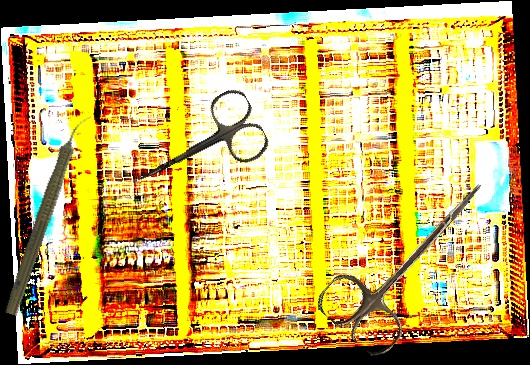Handpiece: (1, 109, 94, 319)
Iris Scissors: (311, 152, 511, 363), (120, 84, 274, 212)
